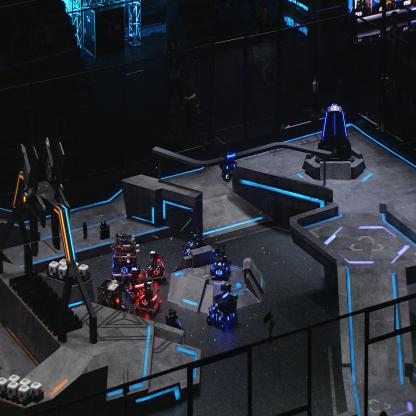car: (96, 278, 133, 325), (110, 230, 141, 282), (206, 283, 238, 332), (135, 279, 162, 319), (181, 225, 208, 258), (142, 250, 168, 284), (208, 243, 231, 280), (162, 308, 185, 344), (124, 266, 147, 302)
